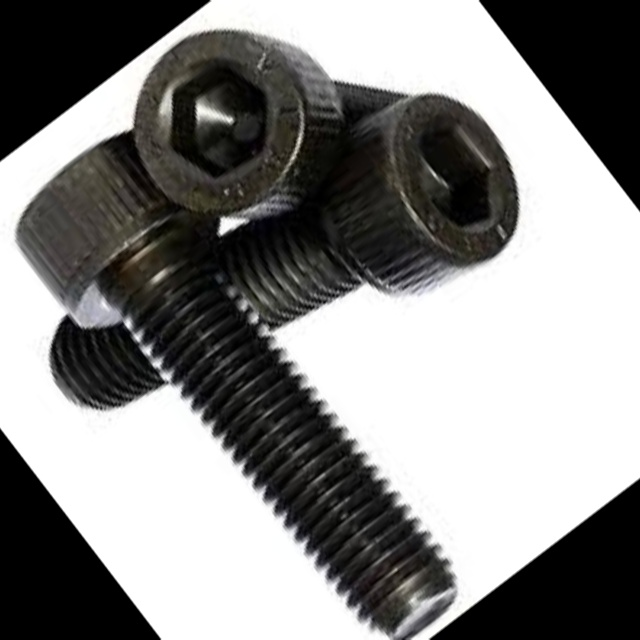allen: (96, 0, 380, 265), (349, 69, 557, 288)
